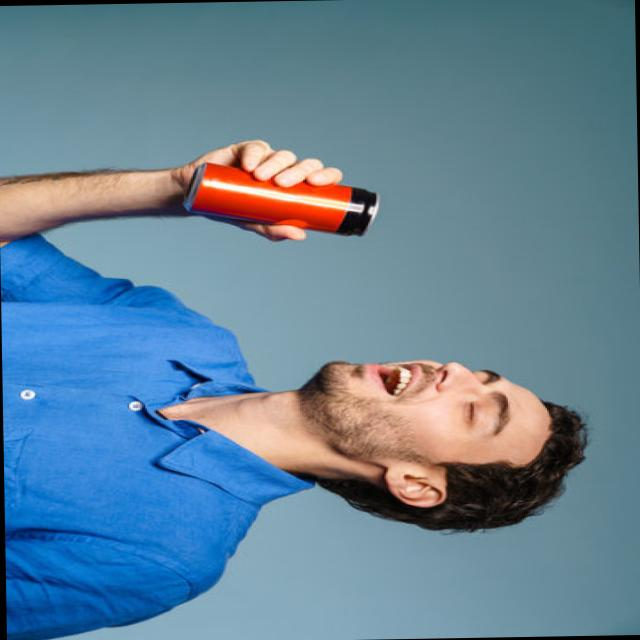soda_can: (152, 129, 406, 275)
